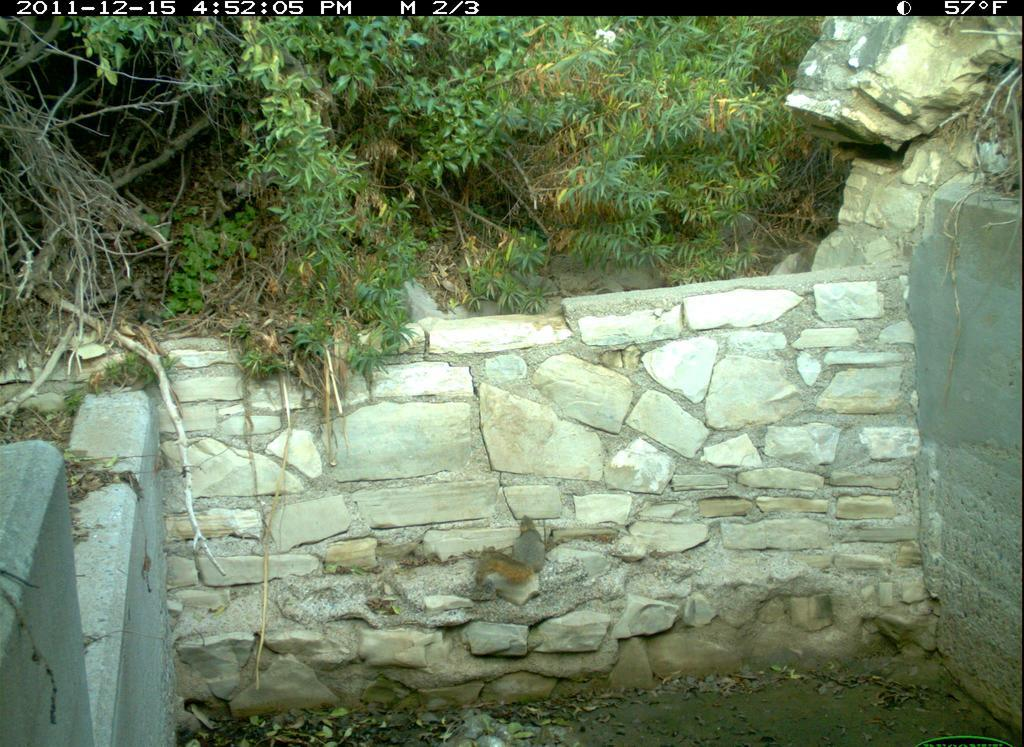squirrel: (474, 511, 560, 589)
